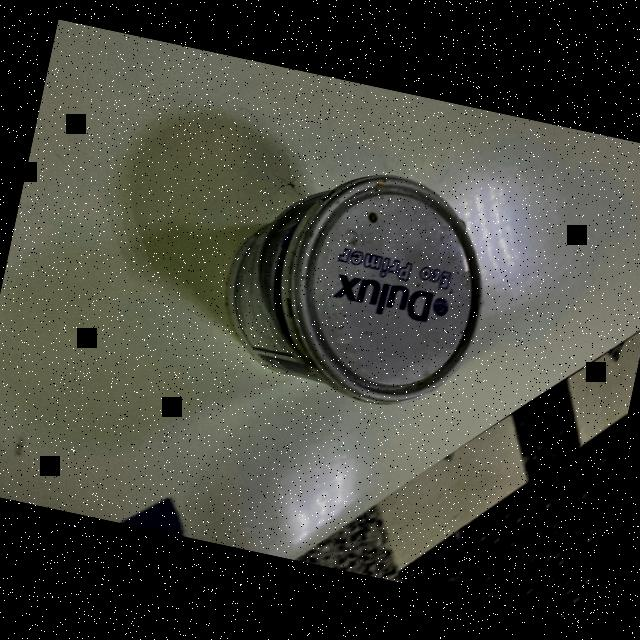paint_bucket: (205, 143, 510, 424)
